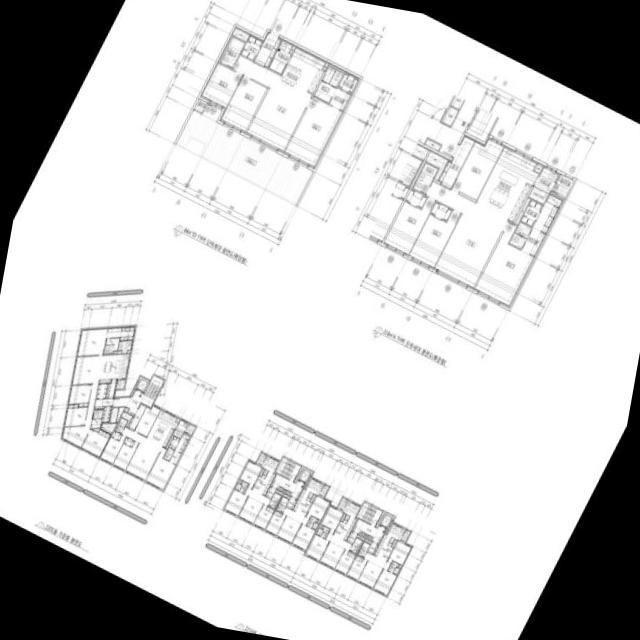background: (0, 0, 640, 640)
space_balconi: (184, 423, 195, 435), (115, 379, 125, 388)
space_bedroom: (473, 221, 534, 307), (283, 96, 342, 168), (451, 136, 503, 199), (382, 197, 435, 255), (408, 210, 460, 268), (218, 75, 266, 132), (199, 62, 241, 108), (145, 446, 175, 489), (80, 428, 110, 457), (76, 327, 107, 355), (134, 404, 160, 435), (99, 434, 125, 463), (112, 441, 138, 470), (372, 568, 396, 595), (291, 523, 315, 550), (320, 505, 343, 533), (304, 534, 328, 560), (223, 489, 247, 515), (239, 460, 261, 488), (305, 495, 330, 519), (386, 540, 411, 564), (63, 403, 87, 426), (67, 384, 91, 406), (334, 549, 355, 574), (264, 510, 285, 535), (346, 555, 366, 580), (253, 504, 273, 529), (405, 188, 426, 207), (430, 201, 451, 220), (110, 430, 121, 440), (123, 437, 133, 446)
space_dressroom: (532, 192, 564, 233), (520, 227, 545, 256), (520, 199, 542, 225), (328, 87, 351, 110), (337, 71, 359, 93), (174, 433, 189, 452), (119, 325, 134, 340), (168, 436, 179, 449)
space_elevator: (465, 106, 496, 141), (378, 512, 393, 528), (297, 467, 312, 483), (133, 376, 148, 392)
space_elevator_hall: (417, 100, 476, 157), (112, 364, 168, 414), (271, 463, 303, 497), (352, 508, 384, 542)
space_front: (437, 134, 474, 187), (253, 31, 281, 67), (240, 34, 262, 60), (127, 403, 145, 430), (94, 398, 112, 408), (96, 383, 107, 398), (101, 406, 111, 422), (346, 530, 357, 543), (264, 485, 275, 498), (285, 496, 296, 508), (367, 541, 377, 553)
space_kitchen: (475, 145, 538, 222), (280, 46, 325, 93), (373, 522, 405, 561), (146, 408, 177, 447), (292, 477, 323, 516), (251, 454, 279, 494), (333, 499, 360, 539), (98, 353, 129, 383)
space_living_room: (425, 181, 507, 288), (232, 55, 311, 152), (61, 355, 102, 447), (121, 426, 161, 480), (357, 551, 389, 588), (276, 506, 308, 543), (319, 532, 351, 568), (238, 487, 270, 523)
space_multipurpose_space: (528, 165, 559, 203), (268, 39, 292, 74)
space_other: (425, 150, 447, 180), (172, 419, 188, 437), (442, 106, 457, 125), (231, 26, 249, 41), (105, 379, 116, 397), (117, 340, 132, 353), (424, 138, 440, 150), (450, 95, 463, 109), (121, 411, 132, 426), (101, 422, 116, 432), (115, 406, 124, 422), (293, 466, 302, 481), (109, 407, 117, 422), (375, 511, 383, 526), (165, 435, 173, 448), (533, 162, 543, 172), (322, 61, 328, 70), (289, 44, 295, 53), (258, 468, 264, 476), (309, 494, 315, 502), (363, 538, 371, 543), (282, 493, 290, 498), (274, 489, 282, 494), (340, 513, 345, 521), (391, 539, 396, 547), (356, 534, 363, 539), (129, 389, 134, 396), (112, 350, 121, 353), (91, 428, 99, 431), (175, 417, 179, 422), (277, 486, 282, 490), (123, 407, 128, 411), (363, 533, 367, 537), (367, 535, 371, 539), (286, 490, 290, 494), (359, 531, 363, 535), (318, 523, 322, 527), (316, 519, 320, 523), (282, 488, 286, 492), (398, 564, 401, 568), (237, 478, 240, 482), (126, 350, 130, 352), (384, 529, 387, 531), (303, 484, 305, 486)
space_outdoor_room: (551, 173, 573, 197), (193, 98, 206, 112), (400, 529, 410, 542), (337, 497, 347, 510), (318, 484, 328, 497), (255, 452, 265, 465)
space_staircase: (356, 501, 377, 523), (275, 456, 295, 478), (148, 377, 163, 399)
space_toilet: (412, 162, 437, 193), (219, 36, 244, 67), (313, 80, 335, 102), (514, 221, 531, 238), (508, 232, 525, 248), (328, 69, 343, 87), (103, 337, 119, 353), (321, 65, 335, 83), (114, 417, 127, 433), (357, 541, 369, 557), (349, 537, 361, 553), (268, 492, 280, 508), (276, 496, 288, 512), (106, 326, 121, 337), (168, 450, 180, 463), (387, 560, 398, 572), (306, 515, 317, 527), (238, 480, 248, 493), (320, 525, 329, 538), (90, 418, 101, 427), (162, 452, 171, 460), (165, 447, 173, 455), (392, 566, 399, 574), (234, 482, 241, 490), (96, 409, 102, 418), (92, 409, 98, 418), (316, 527, 322, 535), (311, 521, 317, 529)
